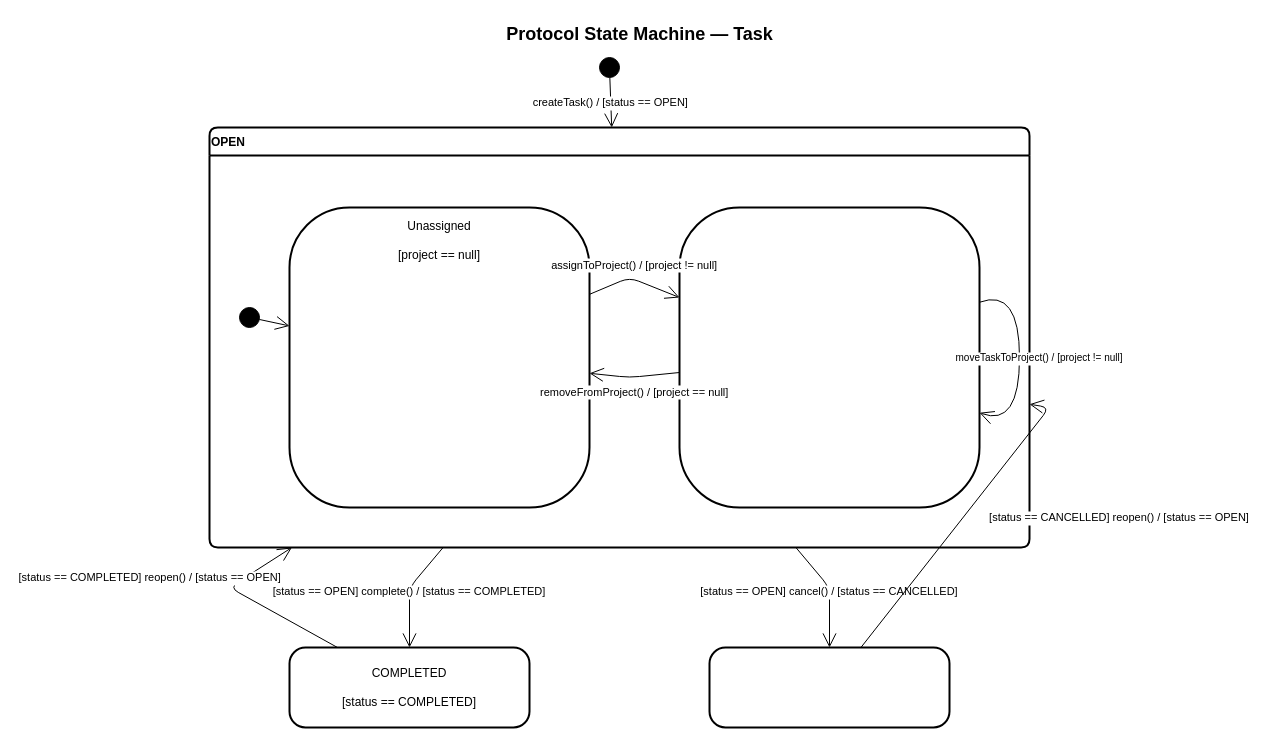
Image size: 1267x745. Some labels were removed from this diagram. Here are the shapes that lost their labels. From the top down, the centre of each, then its label:
(829,357): Assigned [project != null]
(829,687): CANCELLED [status == CANCELLED]
